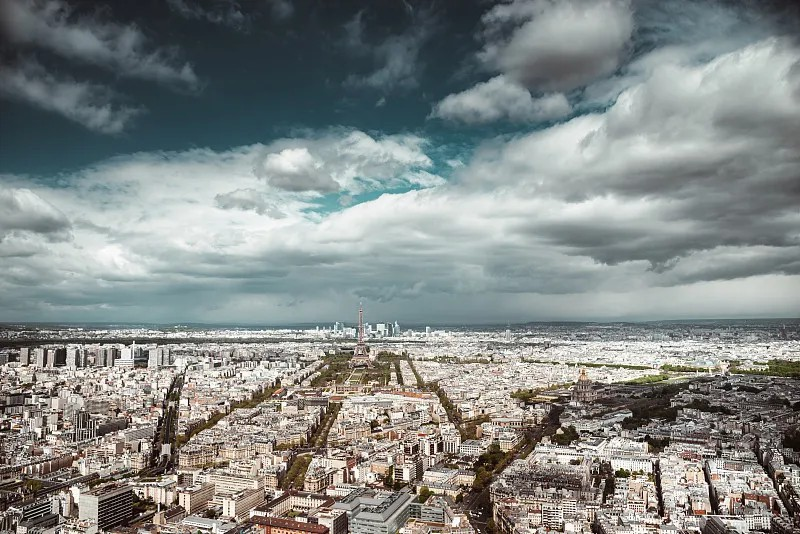Eiffel: (348, 302, 373, 369)
